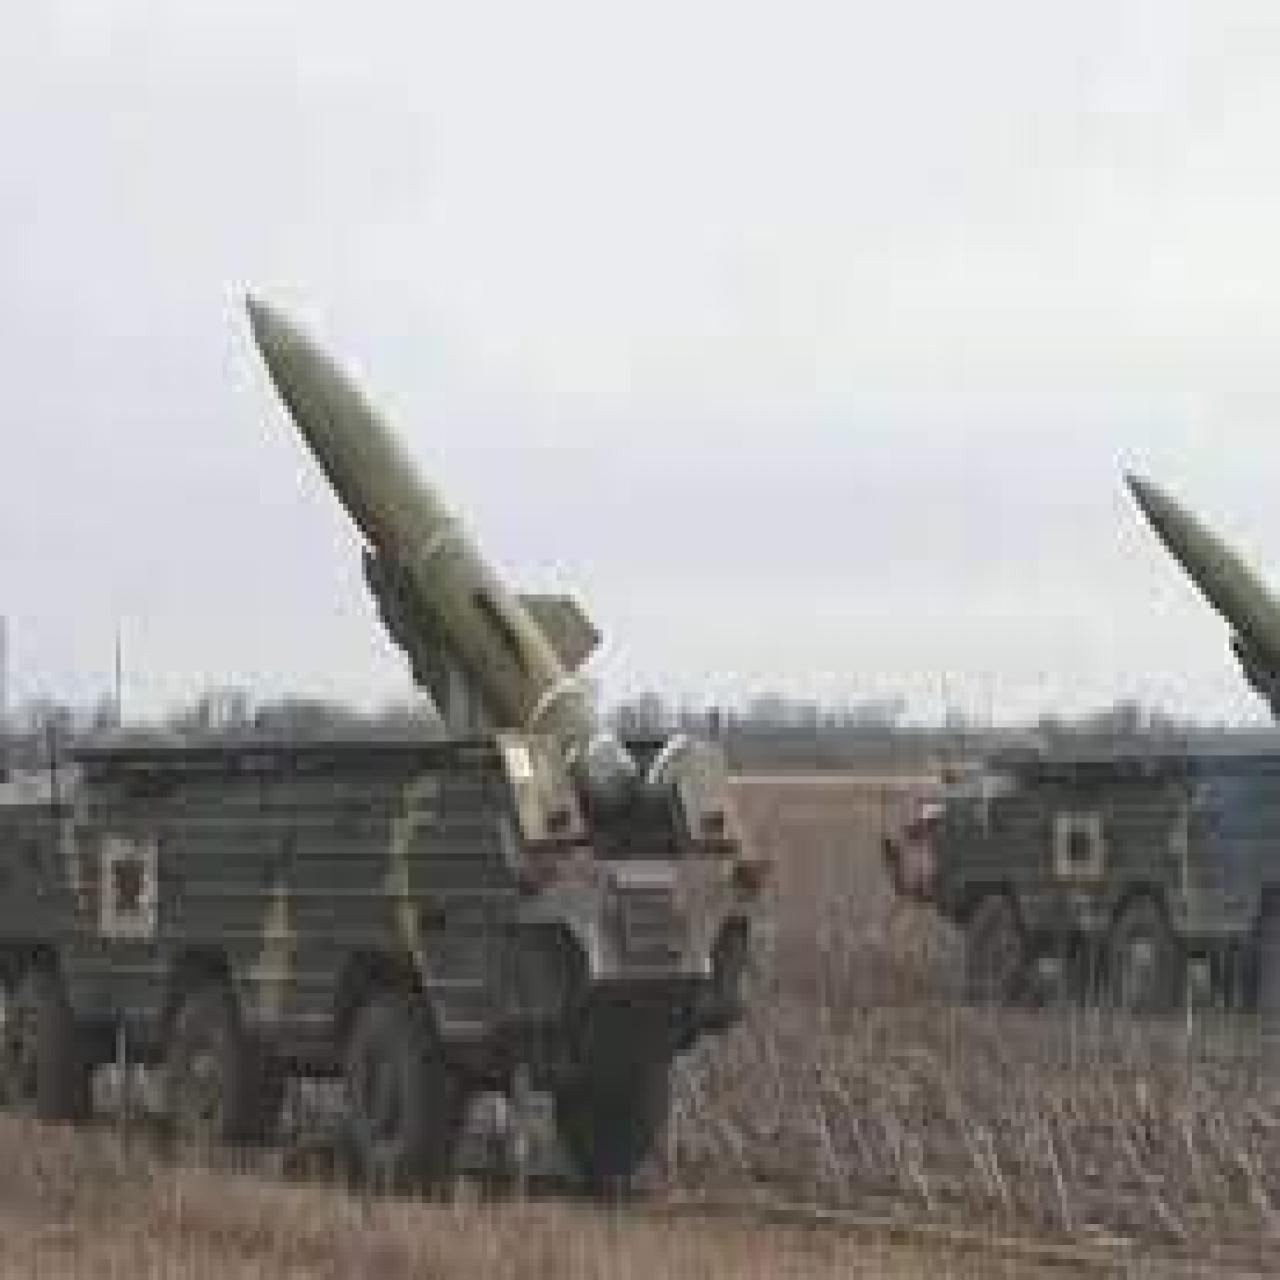MIL_Veh: (11, 297, 753, 1198), (886, 469, 1280, 979)
